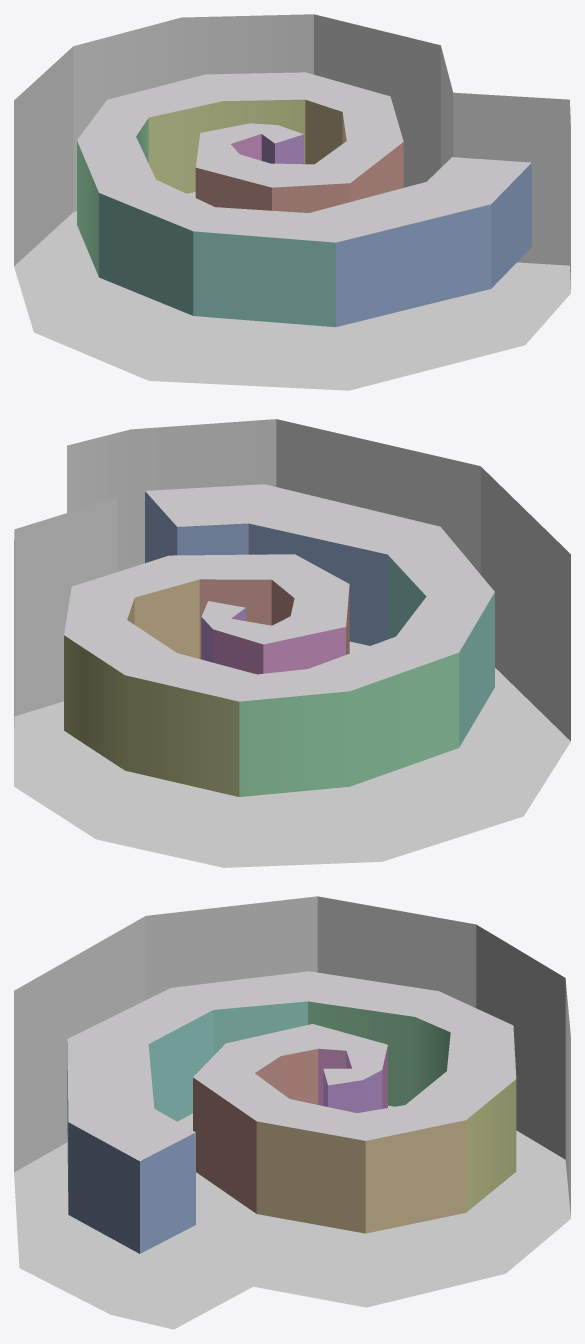
The model's file is GlowStickRainbowSwirl.glb.
The picture shows the model from 3 angles, top to bottom: view 1: azimuth 30°, elevation 25°; view 2: azimuth 150°, elevation 25°; view 3: azimuth 270°, elevation 25°; orthographic projection. The views are drawn at different scales.
Parts seen in each view (by area): view 1: GlowStickRainbowSwirl; view 2: GlowStickRainbowSwirl; view 3: GlowStickRainbowSwirl.
Part boxes in pixels (x1=…): GlowStickRainbowSwirl: x1=14, y1=14, x2=570, y2=390; GlowStickRainbowSwirl: x1=14, y1=419, x2=570, y2=867; GlowStickRainbowSwirl: x1=14, y1=896, x2=570, y2=1329.
Size of the model in its own units: 0.2339 by 0.0788 by 0.2189.
